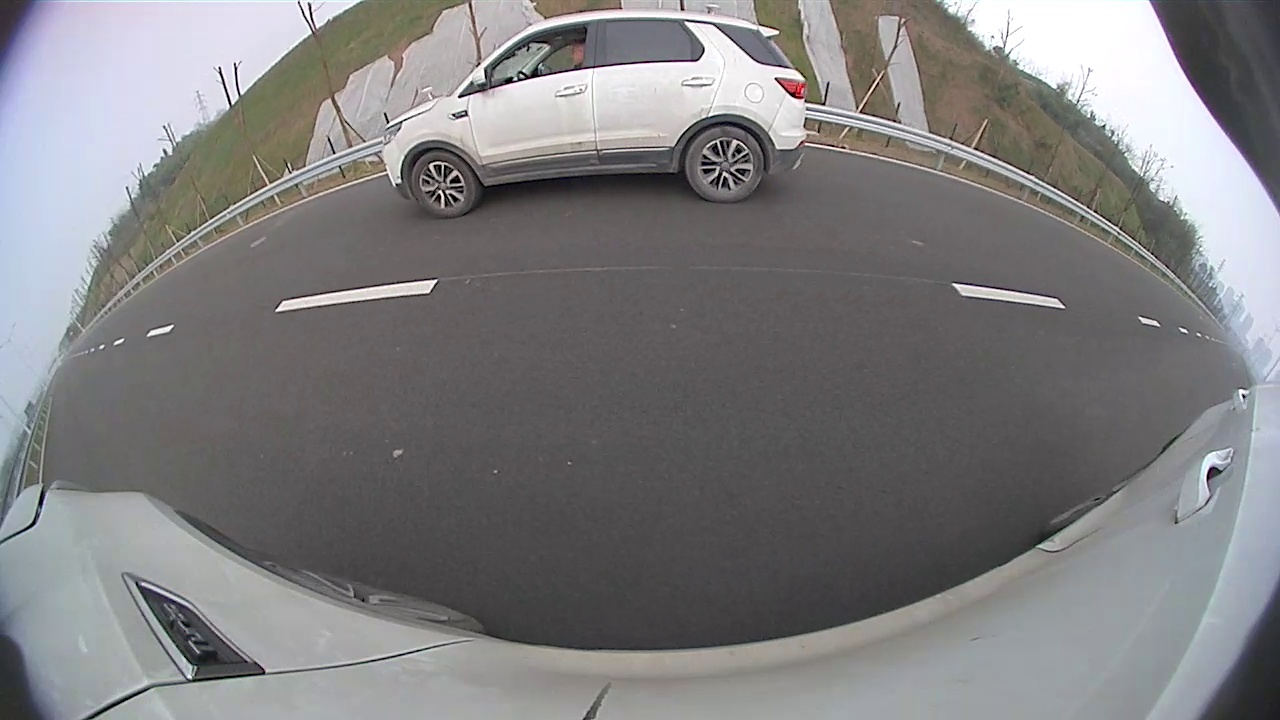car: (382, 9, 807, 217)
front: (408, 150, 478, 219)
rear: (682, 122, 767, 206)
